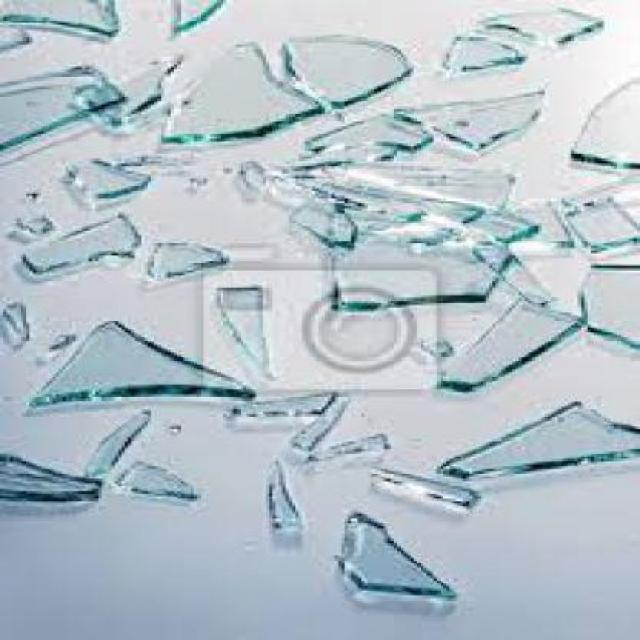kaca: (32, 312, 237, 408), (154, 37, 318, 138), (437, 392, 637, 474), (326, 222, 503, 303), (437, 296, 571, 386), (335, 504, 457, 602), (309, 167, 477, 236), (0, 65, 122, 146), (272, 25, 408, 97), (397, 89, 552, 149), (354, 160, 509, 209), (17, 210, 138, 268), (89, 52, 174, 134), (200, 279, 278, 363), (571, 72, 637, 171), (81, 409, 168, 478), (472, 235, 548, 308), (0, 452, 102, 505), (286, 189, 371, 246), (580, 263, 637, 345), (558, 194, 637, 251), (0, 0, 115, 37), (148, 231, 229, 283), (223, 383, 332, 420), (364, 458, 476, 494), (315, 109, 411, 151), (477, 11, 601, 43), (257, 451, 303, 526), (115, 462, 200, 502), (60, 157, 135, 201), (289, 392, 345, 450), (304, 429, 394, 463), (454, 202, 523, 242), (440, 36, 512, 70), (571, 169, 637, 206), (289, 143, 362, 174), (266, 165, 312, 209), (168, 0, 223, 25), (234, 157, 260, 191), (14, 208, 55, 226), (0, 16, 26, 44), (6, 300, 26, 331), (50, 328, 76, 342)
